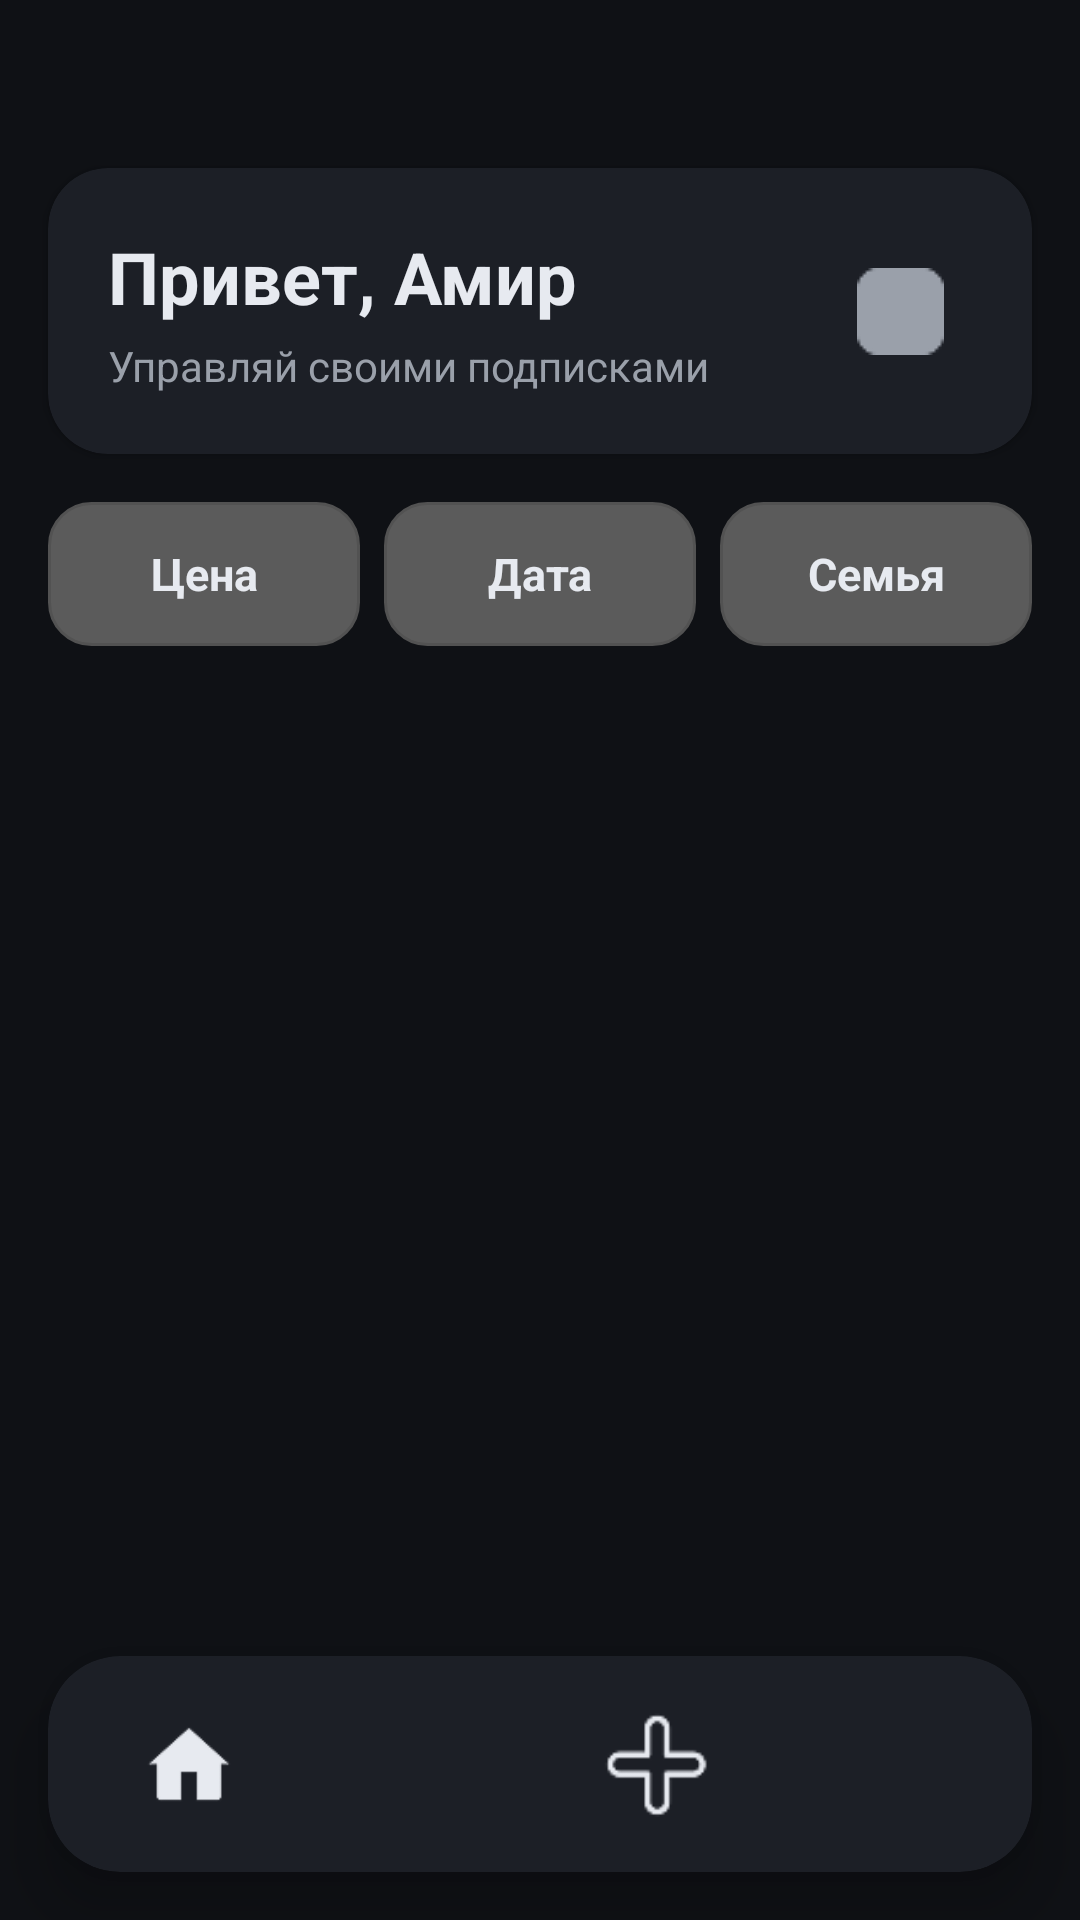

Named icons in this screenshot (1080×1920) and their centers, point (x, y):
Добавить подписку: point (657, 1765)
Дом: point (189, 1764)
